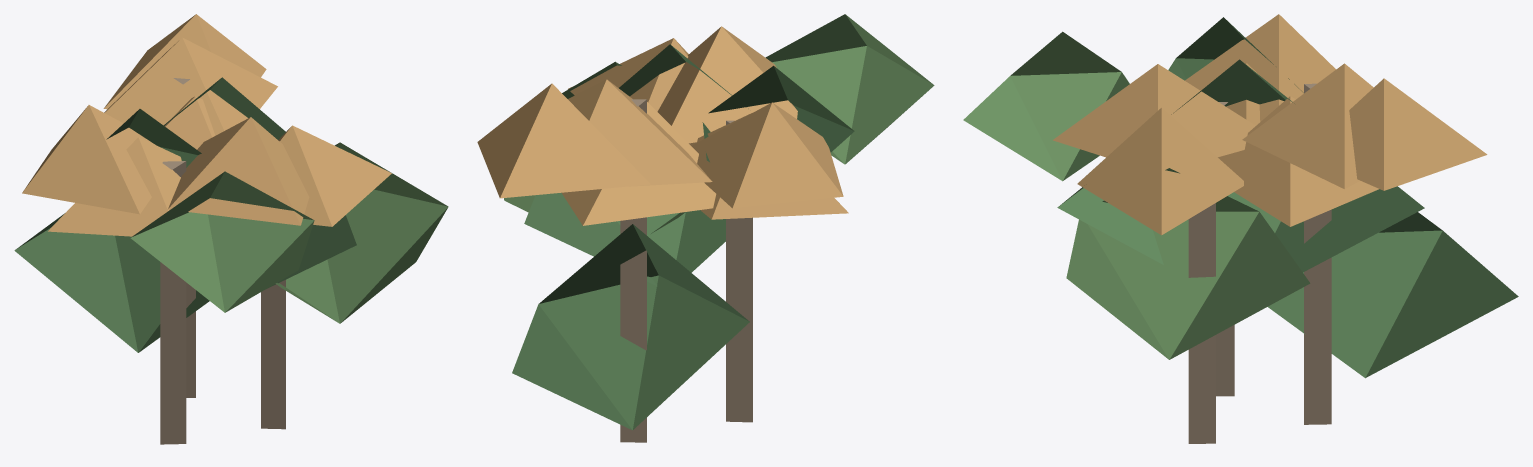
Rendered from shrub.trop.flower_bush__summer.glb.
3 views of the same model, side by side, from view 1: azimuth 30°, elevation 25°; view 2: azimuth 150°, elevation 25°; view 3: azimuth 270°, elevation 25° (orthographic). The views are drawn at different scales.
Visible parts, largest first — view 1: shrub.trop.flower_bush__summer; view 2: shrub.trop.flower_bush__summer; view 3: shrub.trop.flower_bush__summer.
Boxes of the visible parts, box(x1,y1,x2,y2) form: shrub.trop.flower_bush__summer: box(14, 14, 448, 444); shrub.trop.flower_bush__summer: box(477, 14, 934, 442); shrub.trop.flower_bush__summer: box(963, 14, 1518, 443).
Size of the model in its own units: 2.19 by 1.97 by 2.66.
